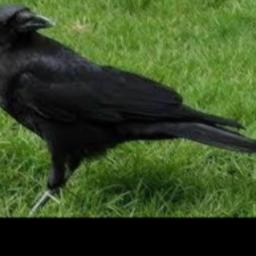Crow: (0, 4, 256, 192)
